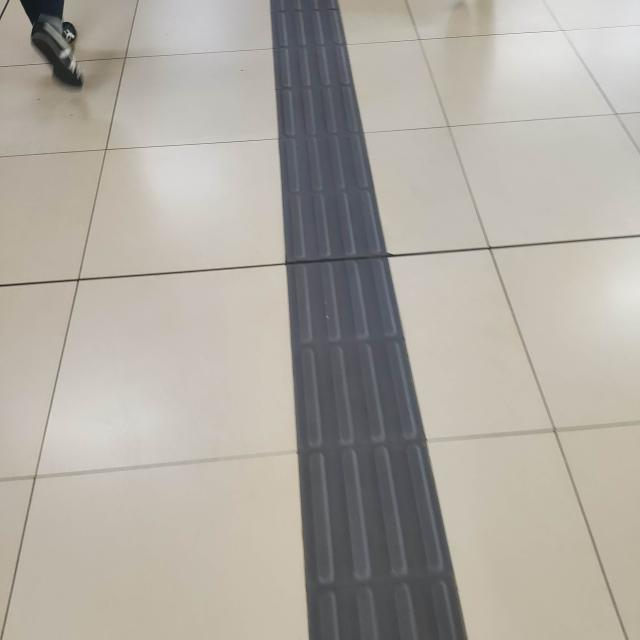lurus: (245, 28, 459, 640)
